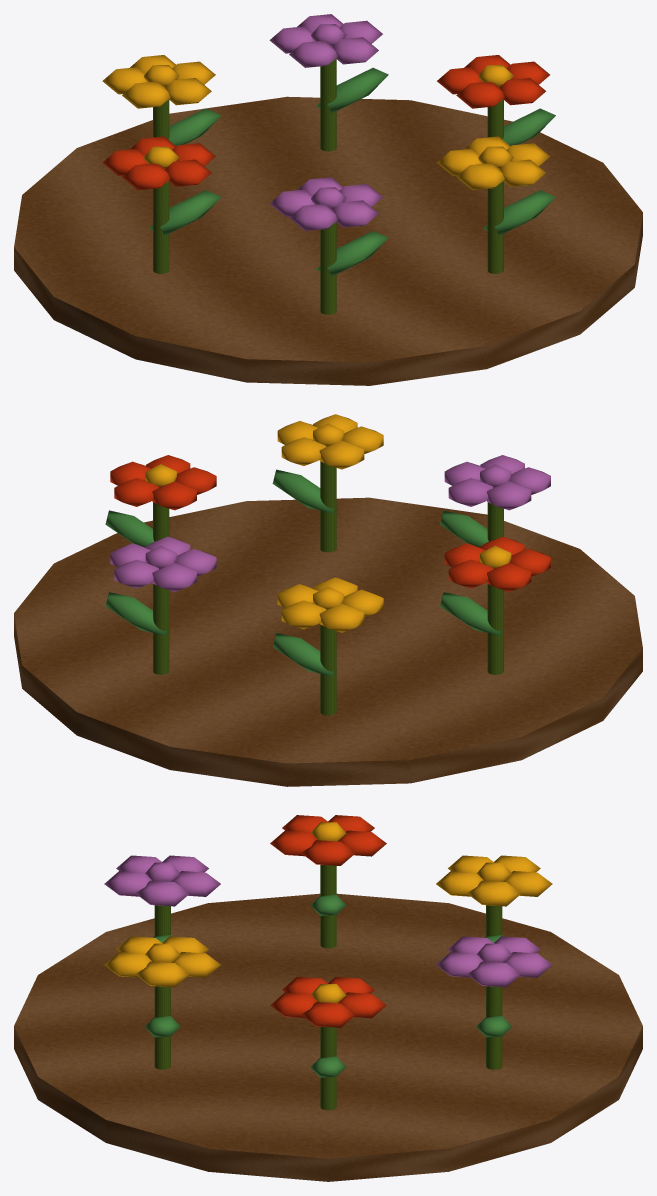
Rendered from FlowerPatch.gltf.
The picture shows the model from 3 angles, top to bottom: view 1: azimuth 30°, elevation 25°; view 2: azimuth 150°, elevation 25°; view 3: azimuth 270°, elevation 25°; orthographic projection.
Parts seen in each view (by area): view 1: FlowerPatch__Body, Flower.005, Flower, Flower.001, Flower.003, Flower.004, Flower.002; view 2: FlowerPatch__Body, Flower.003, Flower.001, Flower.002, Flower.004, Flower.005, Flower; view 3: FlowerPatch__Body, Flower.005, Flower.001, Flower.003, Flower.002, Flower.004, Flower.
Part boxes in pixels (x1=…): FlowerPatch__Body: x1=14, y1=58, x2=642, y2=385; Flower.005: x1=269, y1=14, x2=382, y2=67; Flower: x1=437, y1=55, x2=549, y2=108; Flower.001: x1=437, y1=136, x2=549, y2=190; Flower.003: x1=102, y1=136, x2=215, y2=190; Flower.004: x1=102, y1=55, x2=215, y2=108; Flower.002: x1=270, y1=177, x2=382, y2=230; FlowerPatch__Body: x1=14, y1=461, x2=642, y2=786; Flower.003: x1=444, y1=536, x2=550, y2=591; Flower.001: x1=277, y1=414, x2=383, y2=469; Flower.002: x1=444, y1=455, x2=550, y2=510; Flower.004: x1=277, y1=577, x2=383, y2=632; Flower.005: x1=110, y1=536, x2=216, y2=591; Flower: x1=110, y1=455, x2=216, y2=510; FlowerPatch__Body: x1=14, y1=865, x2=642, y2=1181; Flower.005: x1=436, y1=936, x2=552, y2=987; Flower.001: x1=104, y1=936, x2=220, y2=987; Flower.003: x1=270, y1=815, x2=386, y2=865; Flower.002: x1=104, y1=855, x2=220, y2=906; Flower.004: x1=436, y1=855, x2=552, y2=906; Flower: x1=270, y1=977, x2=386, y2=1027.
Bounding box in the file's own units: 0.966 × 0.2437 × 0.966.
Materials: 3 (1 with a texture image).
